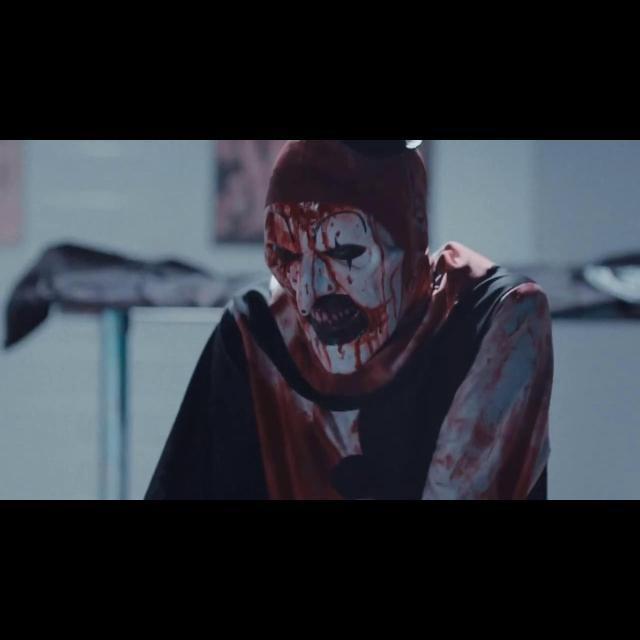blood: (146, 140, 554, 500)
